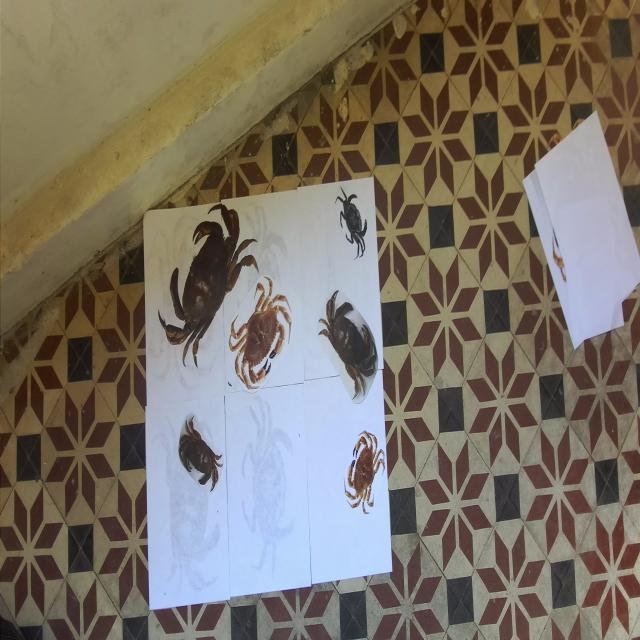European_Green_Crab: (330, 175, 375, 265)
